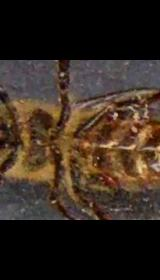varroa_mite: (93, 167, 126, 192)
